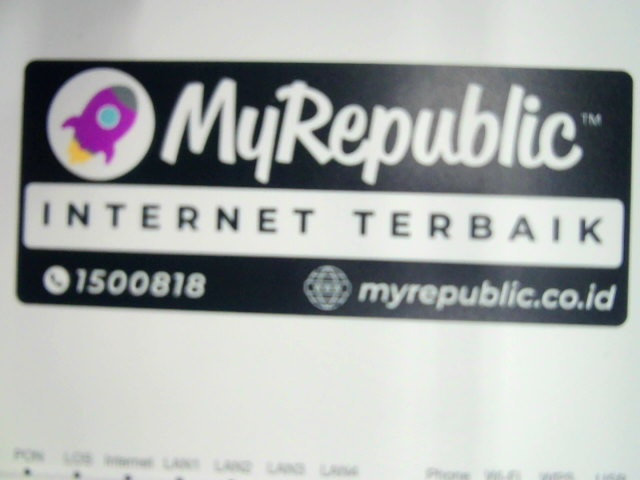BD_MyRepublic: (14, 57, 628, 331)
